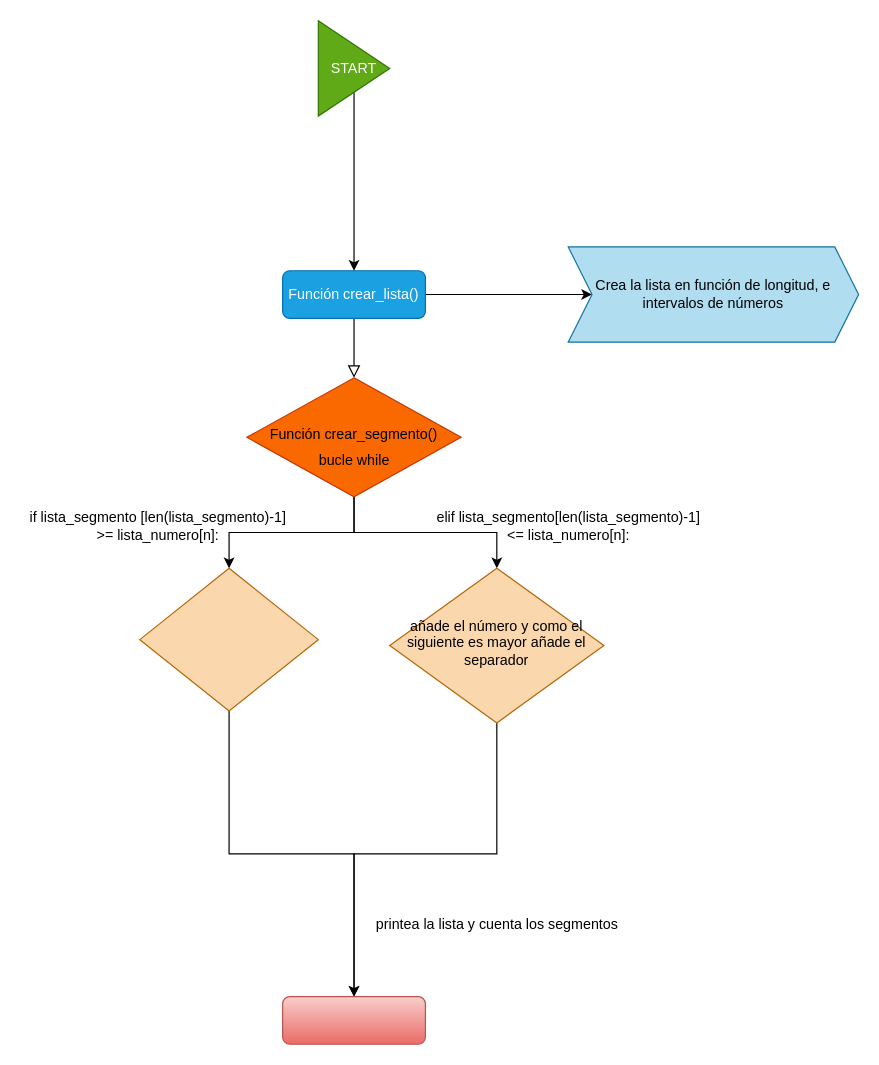
The diagram is 879 pixels wide and 1065 high, and some of its shapes have lost their labels. Here are the shapes that lost their labels. From the top down, the box of each, then its label:
(139, 567, 318, 711): añade el número a la lista final y comprueba el siguiente
(281, 995, 425, 1044): STOP
